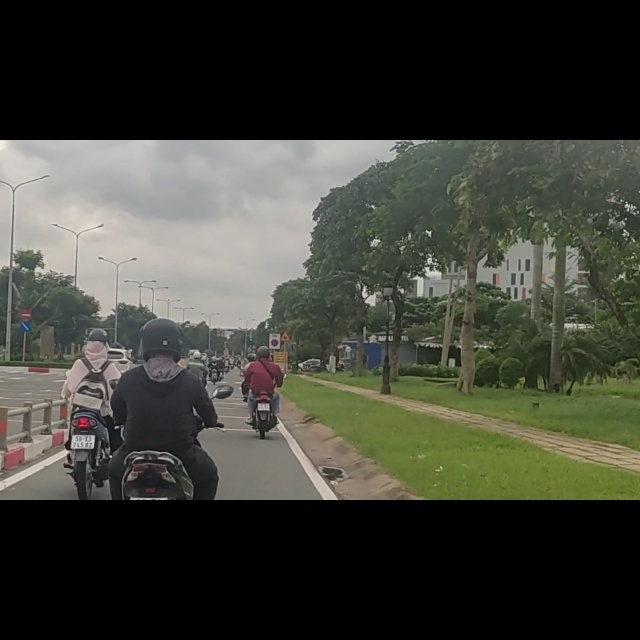bien_hieu_lenh: (21, 301, 32, 321), (281, 338, 291, 359), (20, 324, 31, 341), (271, 353, 279, 367)
